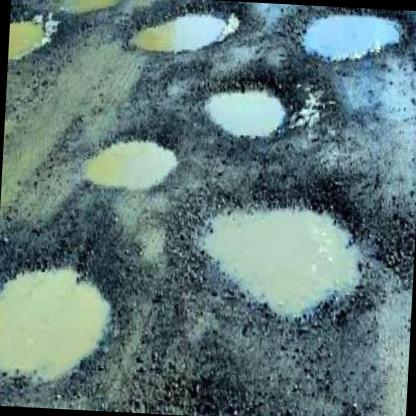pothole: (179, 171, 377, 337), (0, 243, 125, 391), (280, 3, 416, 67), (75, 120, 181, 195), (121, 0, 254, 58), (196, 67, 296, 144), (7, 8, 58, 66), (55, 0, 123, 16)
